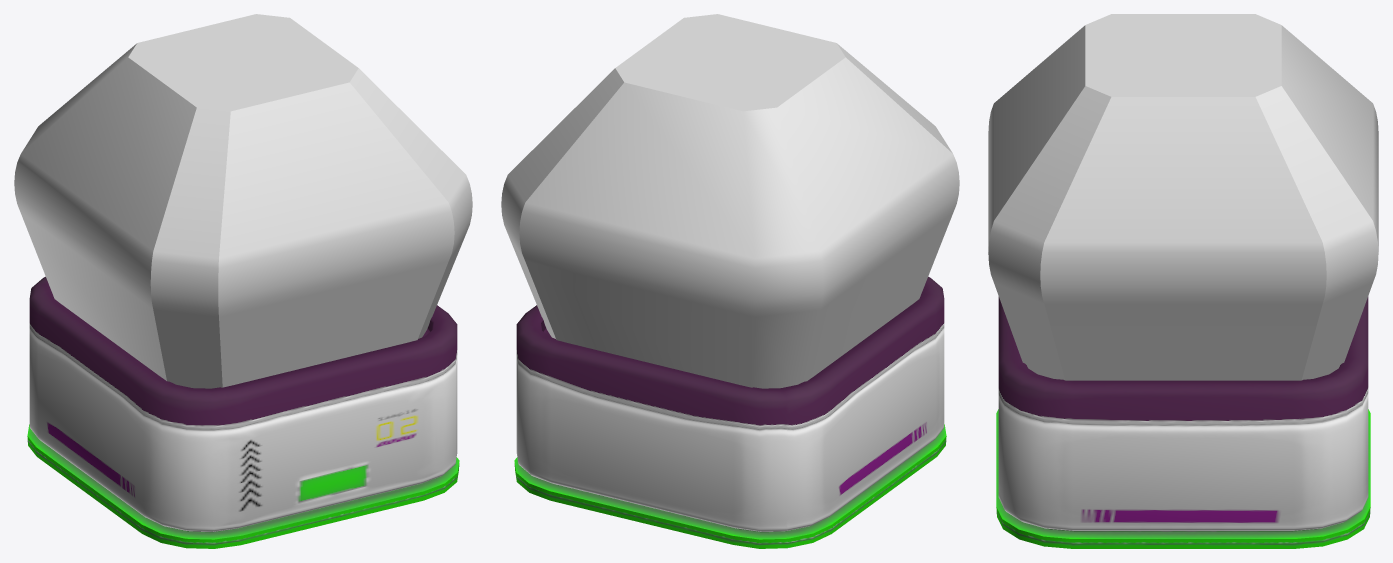
File: Container 2.fbx
3 renders of one model, left to right at view 1: azimuth 30°, elevation 25°; view 2: azimuth 150°, elevation 25°; view 3: azimuth 270°, elevation 25°, orthographic. The views are drawn at different scales.
Visible parts, largest first — view 1: C2_LOD0; view 2: C2_LOD0; view 3: C2_LOD0.
Part boxes in pixels (x1,y1,x2,y2): C2_LOD0: [14, 14, 472, 548]; C2_LOD0: [501, 14, 959, 548]; C2_LOD0: [988, 14, 1378, 548].
Size of the model in its own units: 492 by 578 by 492.
